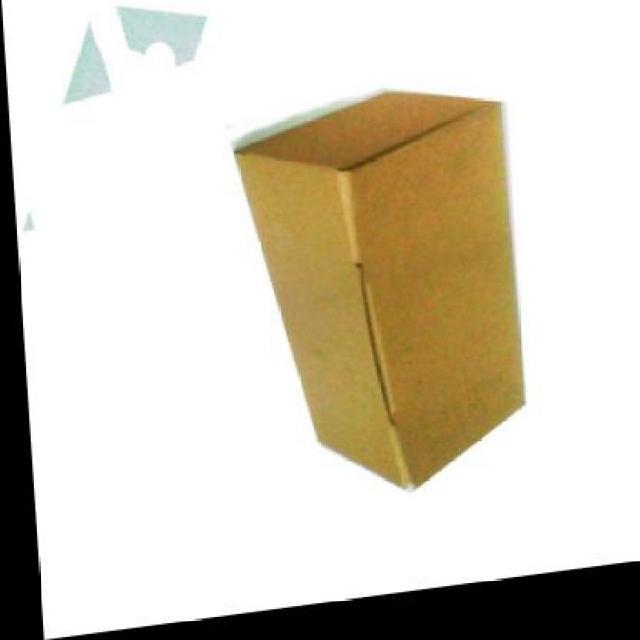box: (230, 88, 522, 518)
